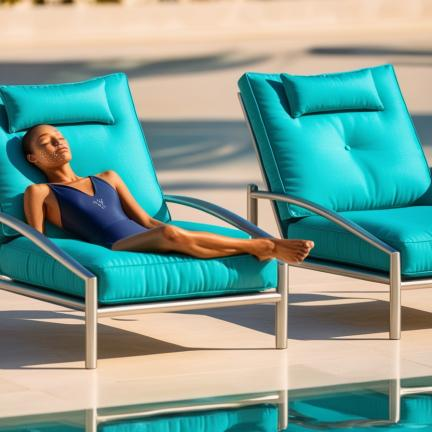empty chair: (238, 64, 432, 339)
guest on chair: (0, 74, 314, 367)
